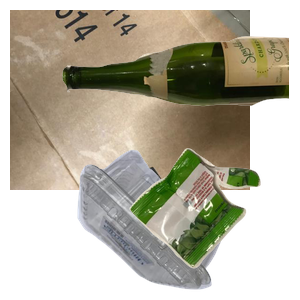cardboard: (10, 10, 250, 190)
glass: (60, 34, 300, 133)
plastic: (75, 147, 289, 300)
trash: (127, 146, 300, 300)
